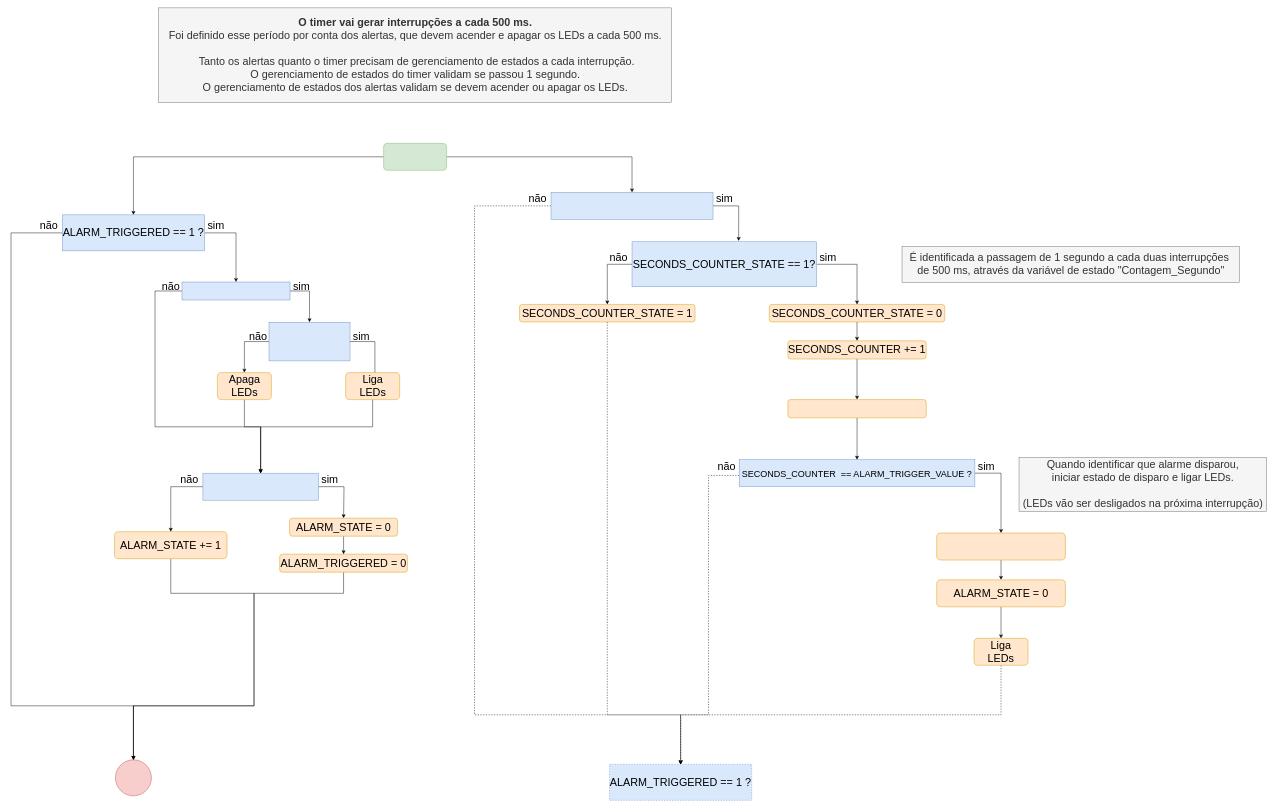
The diagram is 1274 pixels wide and 808 high, and some of its shapes have lost their labels. Each missing label, with the box of its shape:
ALARM_STATE != 0?: (182, 282, 290, 300)
ALARM_STATE == 21?: (202, 473, 318, 500)
ALARM_STATE é par?: (269, 322, 350, 361)
ALARM_TRIGGERED = 1: (936, 533, 1065, 560)
Atualiza display: (787, 399, 926, 418)
Fim: (115, 759, 151, 796)
Interrupção do Timer: (383, 143, 447, 170)
IS_COUNTING_SECONDS == 1: (551, 192, 713, 219)
